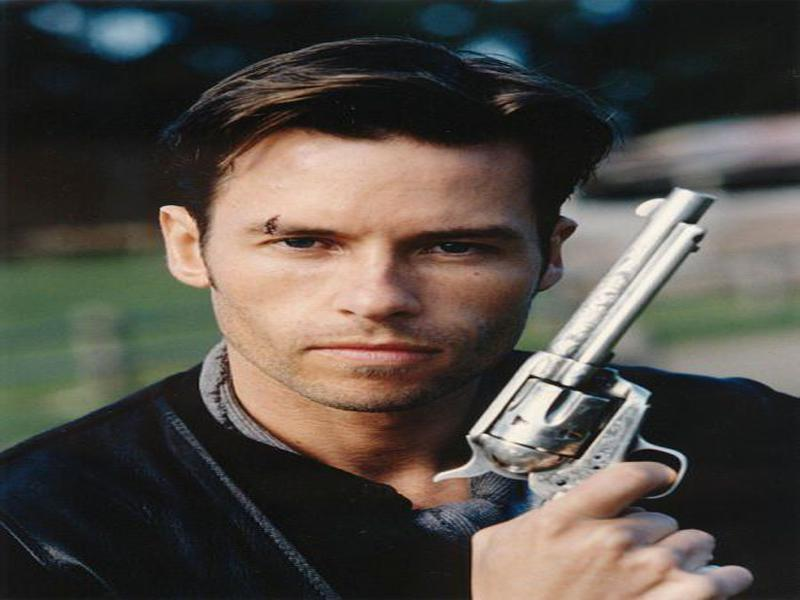Revolver: (484, 174, 733, 507)
